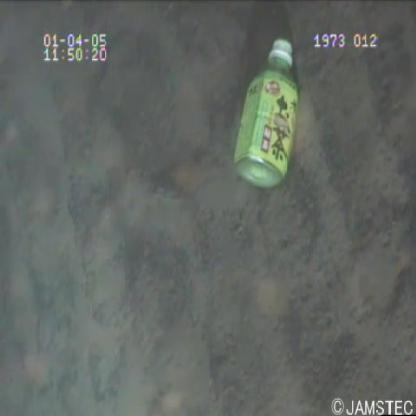Rác: (226, 29, 309, 204)
